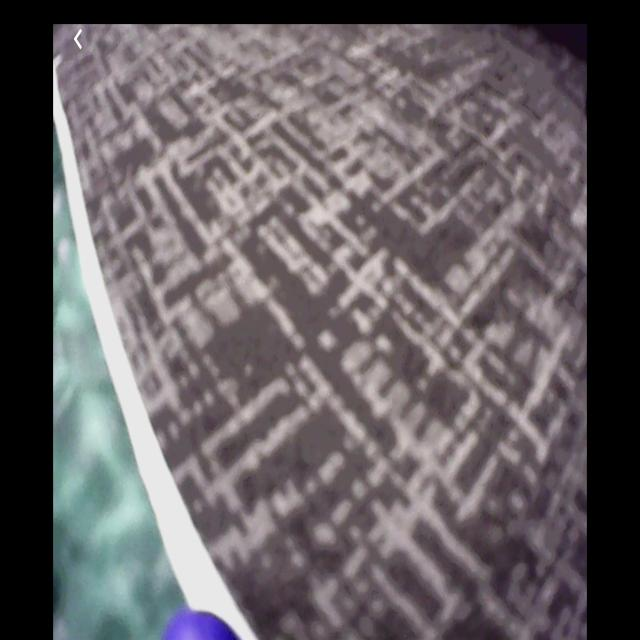ball: (165, 613, 244, 640)
